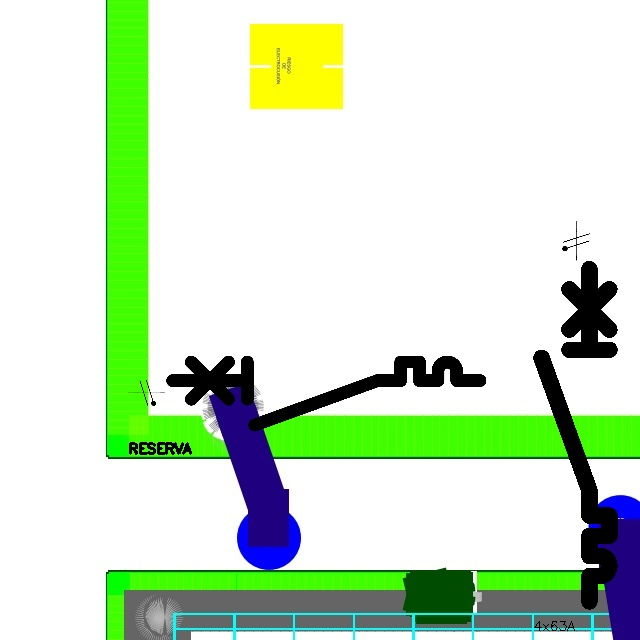interruptor_termomagnetico: (533, 260, 618, 610), (164, 354, 487, 433)
